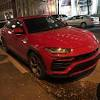Lamborghini: (1, 16, 100, 78)
